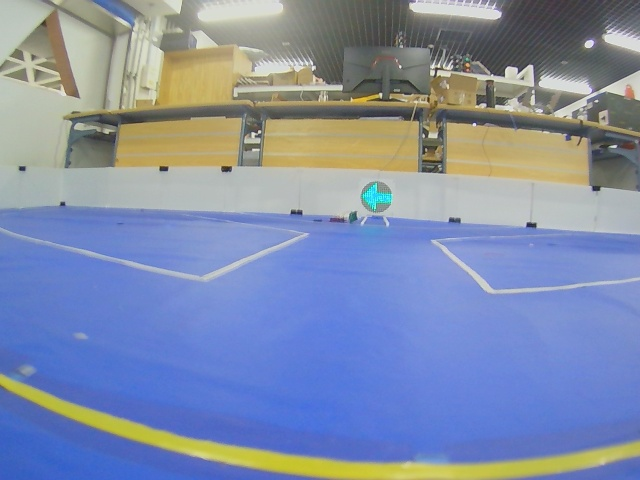left_green: (361, 181, 393, 213)
